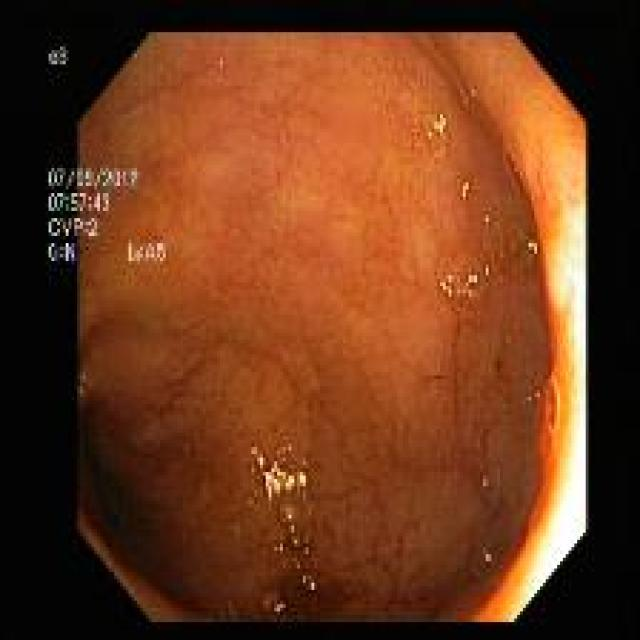ulcerative-colitis: (80, 34, 551, 620)
